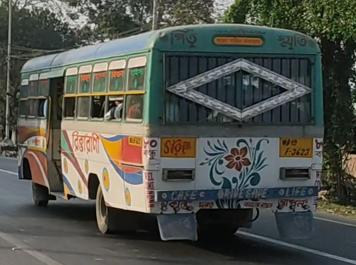Bus: (14, 21, 326, 241)
